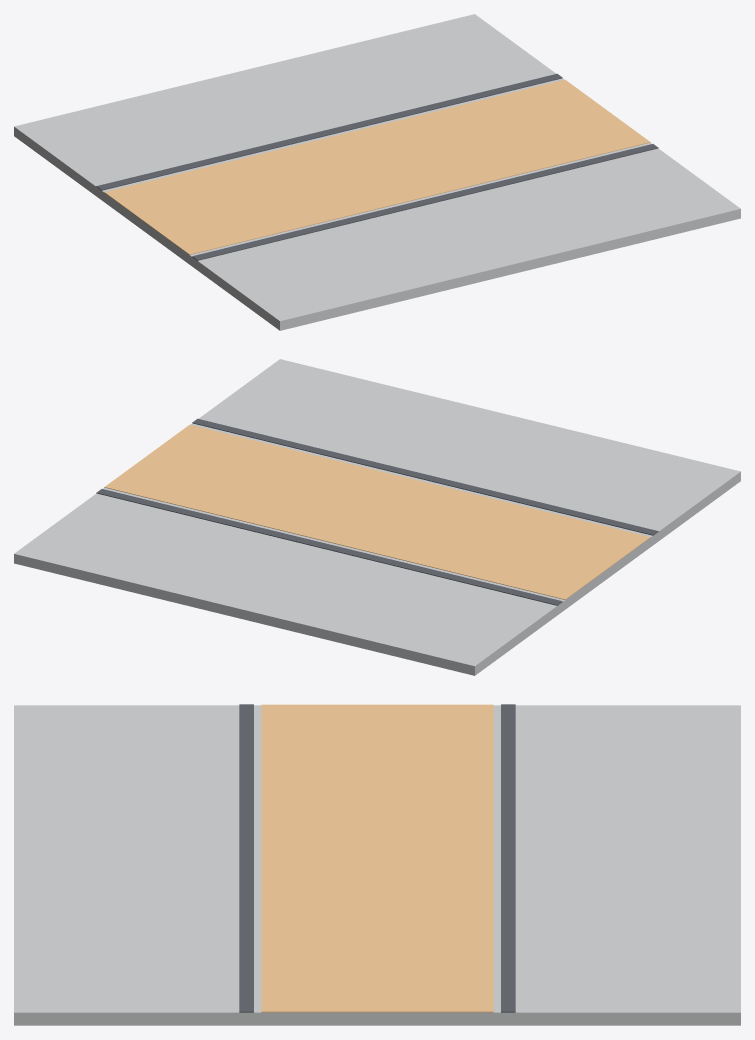
Rendered from chocolate-and-confectionery-factory-factory-floor-walk-deede832__36809.glb.
3 renders of one model, top to bottom at view 1: azimuth 30°, elevation 25°; view 2: azimuth 150°, elevation 25°; view 3: azimuth 270°, elevation 25°, orthographic. The views are drawn at different scales.
Visible parts, largest first — view 1: factory-floor-walkway-tile; view 2: factory-floor-walkway-tile; view 3: factory-floor-walkway-tile.
Part boxes in pixels (x1,y1,x2,y2): factory-floor-walkway-tile: (14,14,740,330); factory-floor-walkway-tile: (14,359,740,675); factory-floor-walkway-tile: (14,704,740,1025).
Bounding box in the file's own units: 5 × 0.108 × 5.
